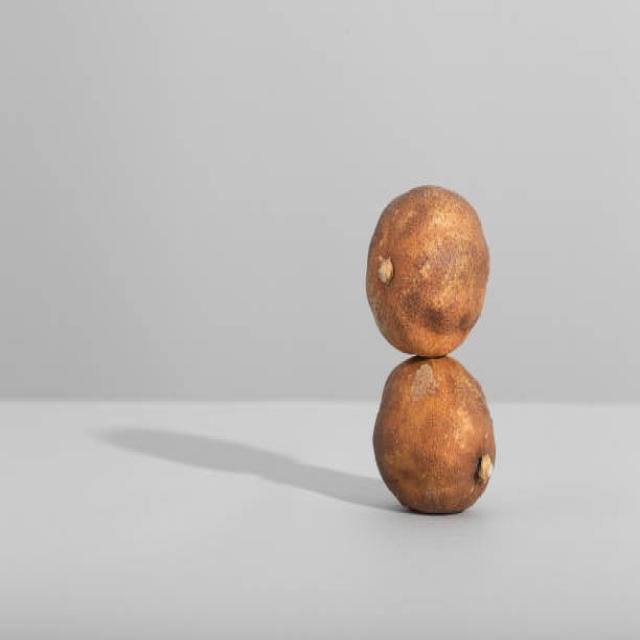overripe: (360, 178, 493, 357), (373, 356, 500, 518)
